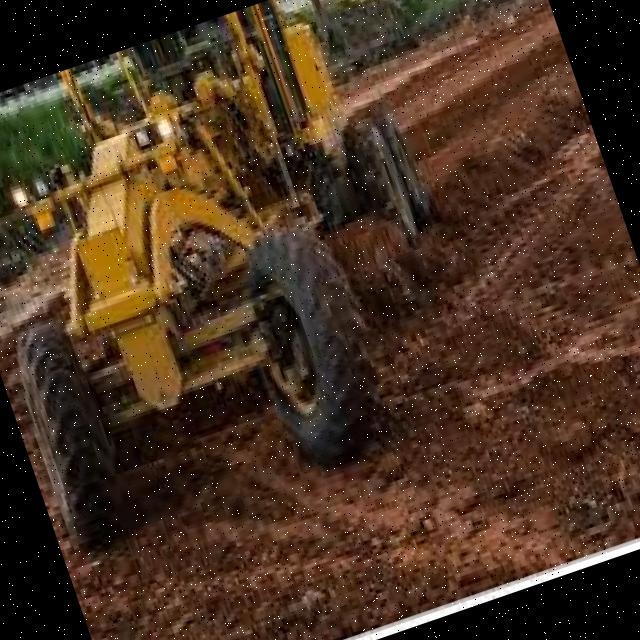Grader: (0, 0, 506, 558)
